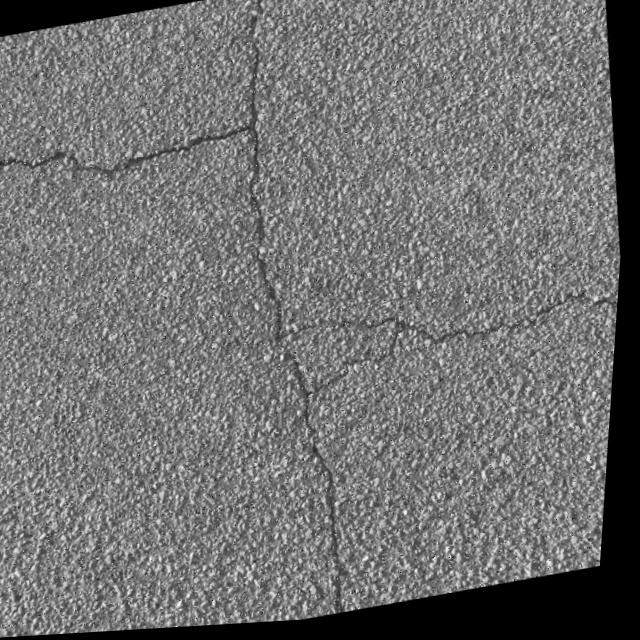Crack: (194, 0, 395, 629), (326, 254, 625, 383), (0, 99, 256, 212)
